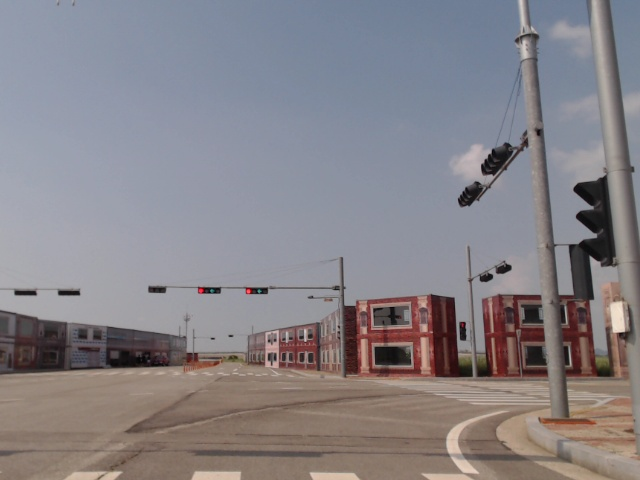left_green_4: (198, 287, 221, 294), (246, 288, 268, 294)
